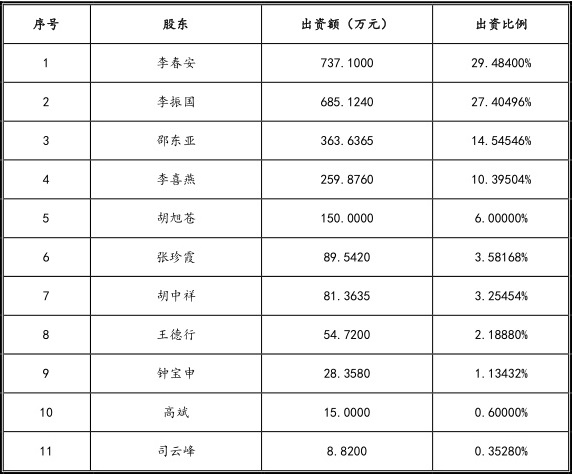column: (301, 2, 386, 474), (471, 3, 531, 474), (157, 6, 195, 474), (31, 3, 60, 471)
columnw: (301, 1, 386, 474), (471, 5, 532, 474), (157, 1, 196, 474), (33, 6, 59, 474)
row: (1, 172, 572, 185), (1, 18, 572, 30), (1, 445, 572, 457), (2, 135, 572, 147), (2, 252, 572, 264), (3, 406, 572, 418), (4, 96, 572, 108), (2, 329, 572, 340), (1, 213, 570, 224), (3, 290, 572, 301), (4, 57, 572, 68), (5, 368, 572, 379)
